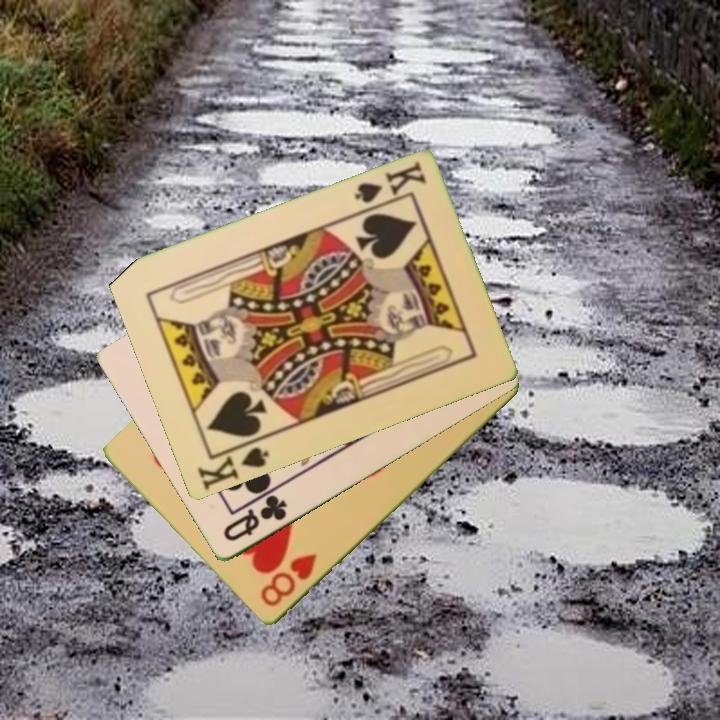8h: (257, 550, 320, 610)
Ks: (193, 434, 272, 494), (350, 158, 429, 208)
Qc: (219, 491, 290, 545)
